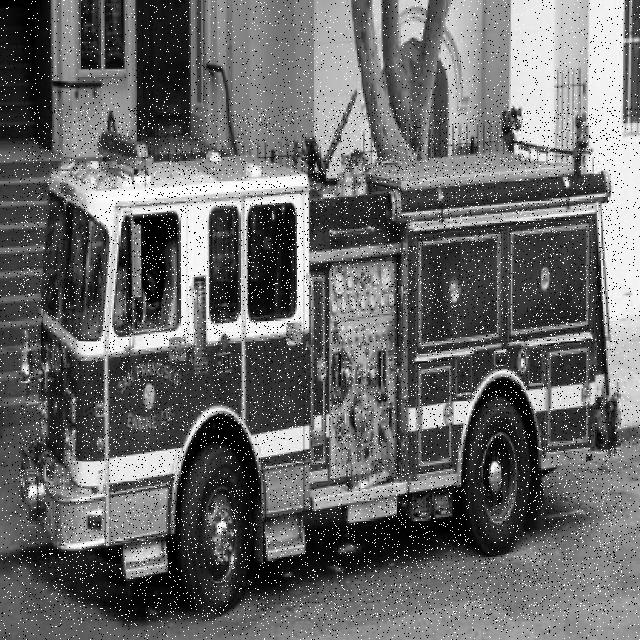Fire Truck: (19, 108, 623, 621)
